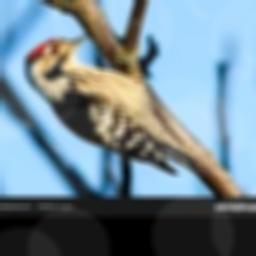Woodpecker: (24, 34, 198, 174)
